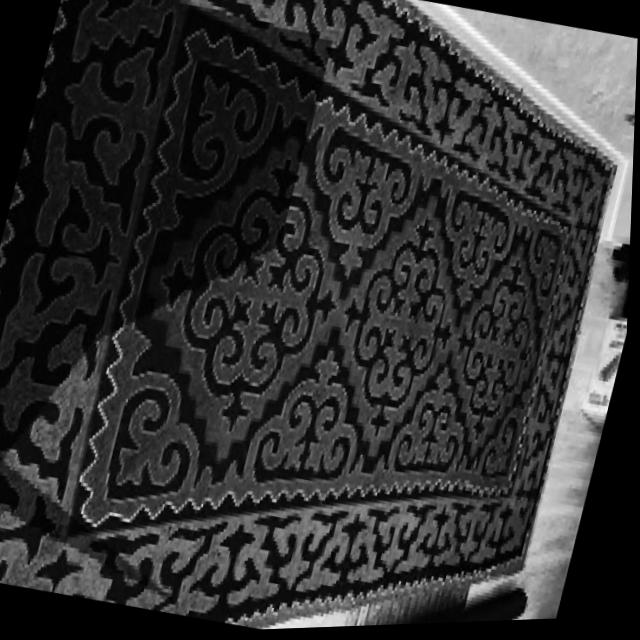Unity: (155, 139, 344, 442), (335, 204, 456, 449), (215, 337, 366, 484), (303, 119, 434, 282), (455, 252, 534, 450), (364, 360, 468, 475), (435, 176, 525, 307)
